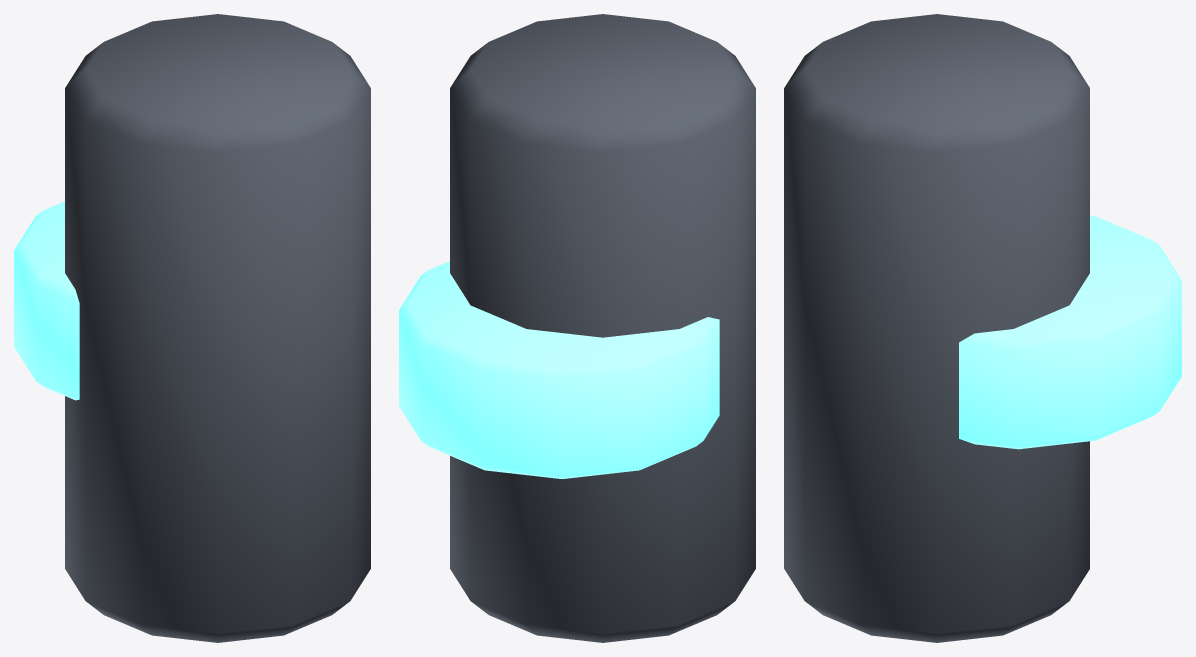
The model's file is cooldown_tank.glb.
The picture shows the model from 3 angles, left to right: view 1: azimuth 30°, elevation 25°; view 2: azimuth 150°, elevation 25°; view 3: azimuth 270°, elevation 25°; orthographic projection.
Parts seen in each view (by area): view 1: cooldown_tank; view 2: cooldown_tank; view 3: cooldown_tank.
Part boxes in pixels (<box>): cooldown_tank: <box>14,14,370,642</box>; cooldown_tank: <box>399,14,755,642</box>; cooldown_tank: <box>784,14,1181,642</box>.
Bounding box in the file's own units: 0.16 × 0.28 × 0.195.
